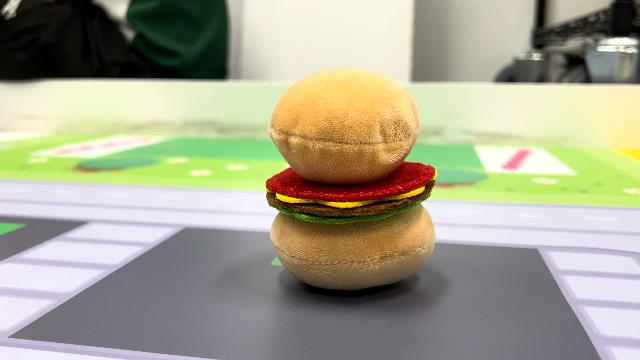burger: (260, 63, 442, 293)
